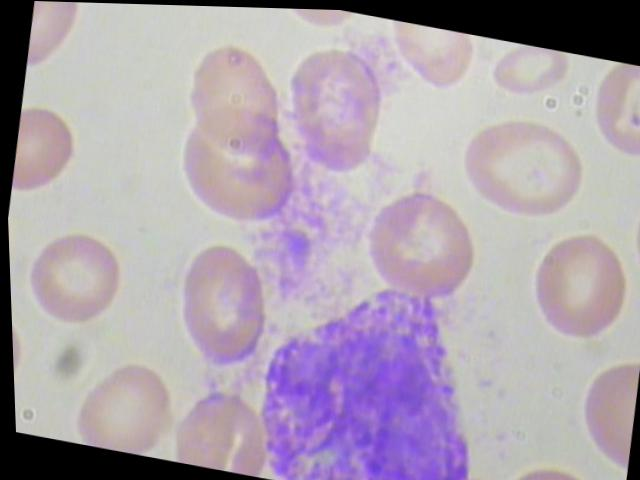Red Blood Cells: (448, 98, 595, 233), (343, 179, 488, 309), (275, 38, 397, 185), (158, 235, 276, 372), (174, 31, 292, 168), (6, 219, 133, 344), (517, 220, 639, 347), (64, 352, 185, 460), (161, 377, 275, 477), (6, 99, 84, 209), (377, 18, 479, 101), (576, 54, 639, 165), (489, 455, 616, 479)
